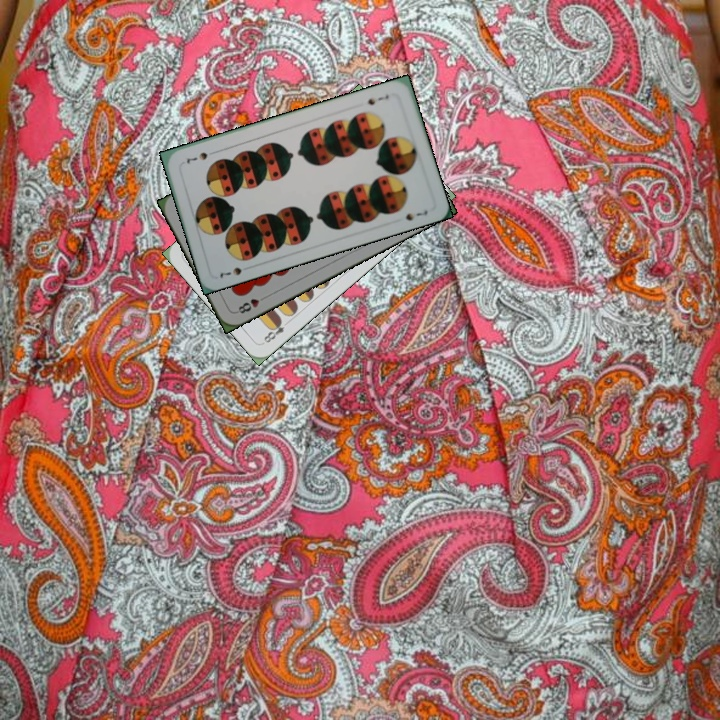E8: (259, 315, 293, 346)
H8: (232, 291, 270, 316)
S7: (216, 263, 244, 281), (364, 90, 391, 108)
